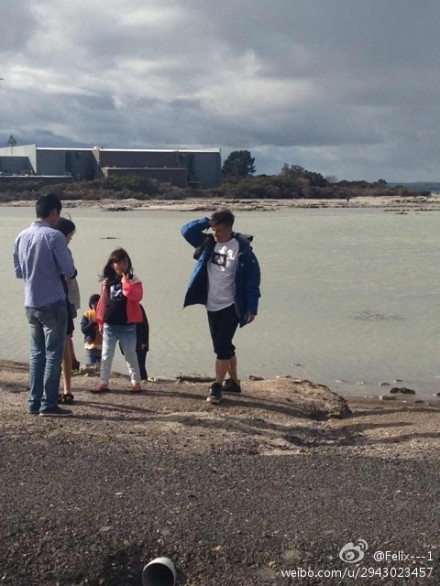handsup: (177, 203, 266, 417), (90, 239, 158, 399)
